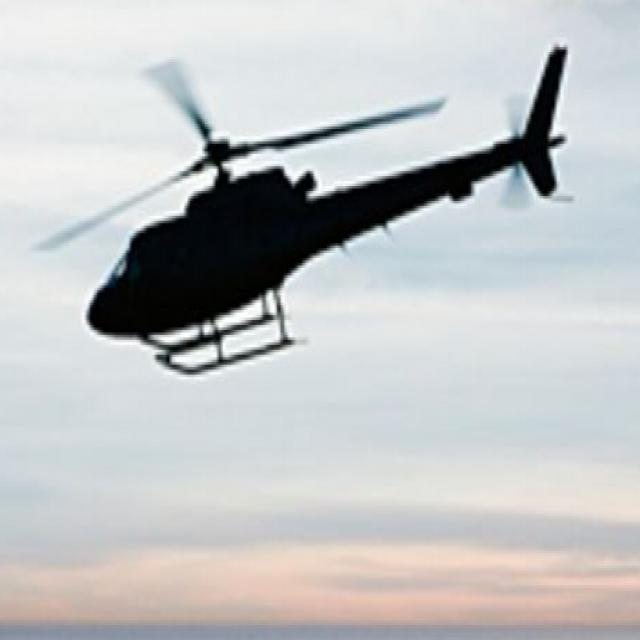helicopter: (51, 38, 565, 376)
